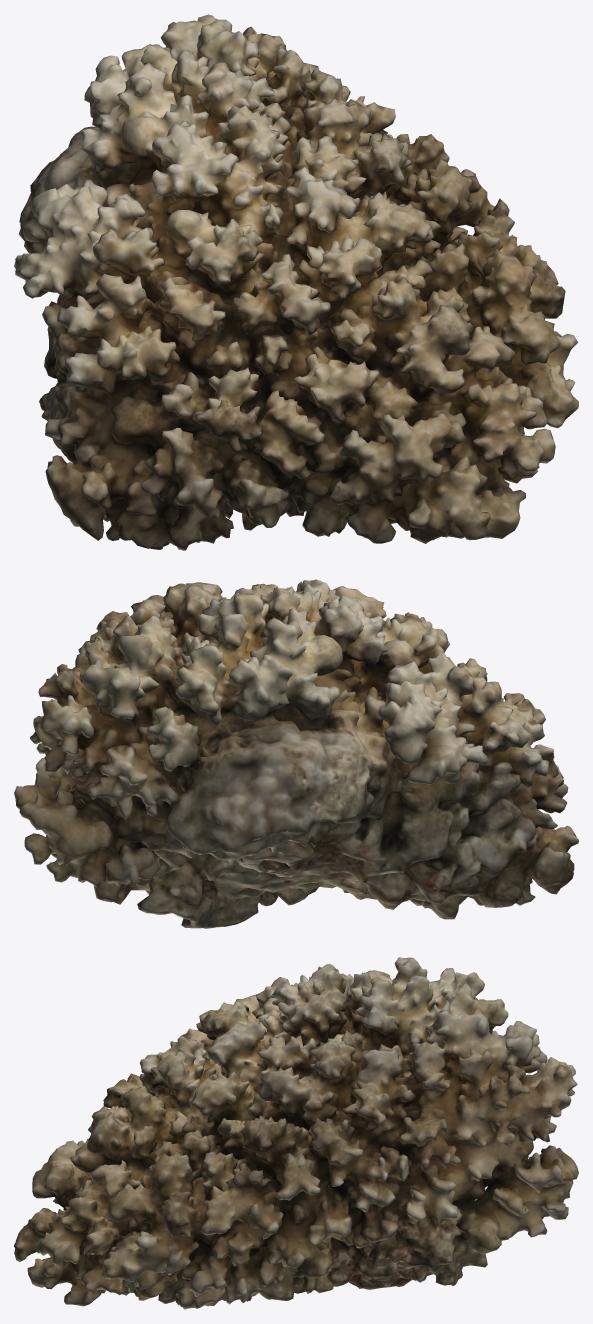
File: pocillopora_lod0.glb
3 views of the same model, one above another, from view 1: azimuth 30°, elevation 25°; view 2: azimuth 150°, elevation 25°; view 3: azimuth 270°, elevation 25° (orthographic). The views are drawn at different scales.
Visible parts, largest first — view 1: Pocillopora026_LOD0; view 2: Pocillopora026_LOD0; view 3: Pocillopora026_LOD0.
Part boxes in pixels (x1,y1,x2,y2): Pocillopora026_LOD0: [14, 14, 578, 550]; Pocillopora026_LOD0: [14, 579, 578, 928]; Pocillopora026_LOD0: [14, 957, 578, 1309].
Bounding box in the file's own units: 0.6041 × 0.4318 × 0.736.
Materials: 1 (1 with a texture image).
